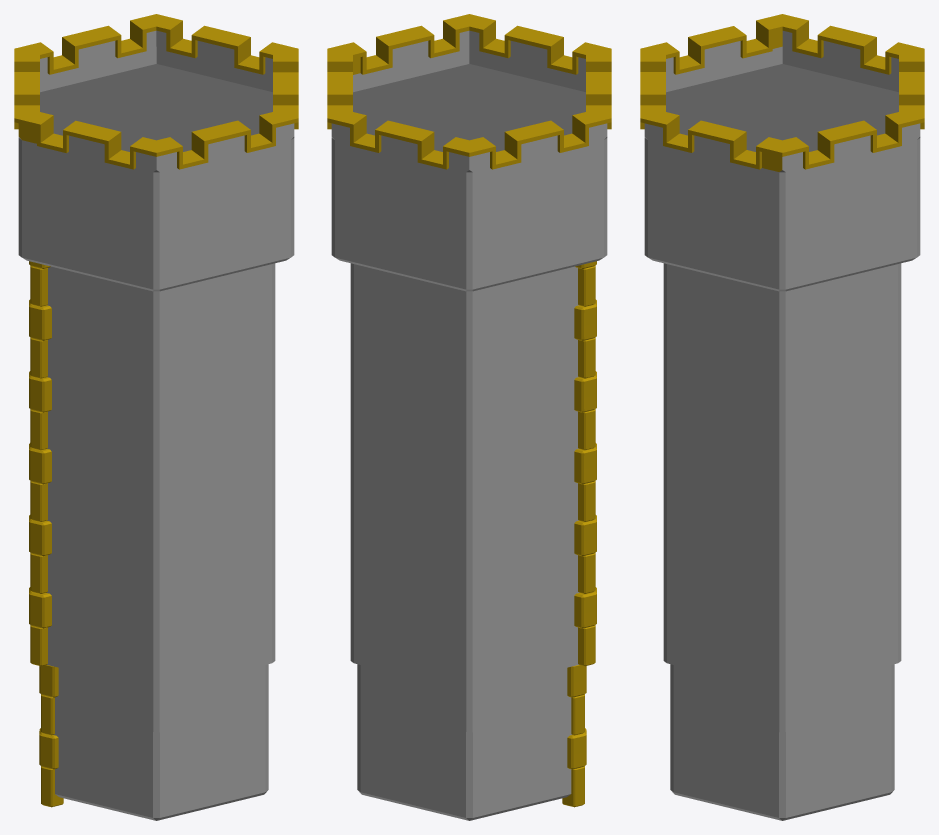
File: Castle Tower Resized.fbx
The picture shows the model from 3 angles, left to right: view 1: azimuth 30°, elevation 25°; view 2: azimuth 150°, elevation 25°; view 3: azimuth 270°, elevation 25°; orthographic projection.
Visible parts, largest first — view 1: pCylinder1, pCube33; view 2: pCylinder1, pCube33; view 3: pCylinder1.
Boxes of the visible parts, left/top/right/bottom form: pCylinder1: left=14, top=14, right=298, bottom=820; pCube33: left=29, top=261, right=63, bottom=807; pCylinder1: left=327, top=14, right=611, bottom=820; pCube33: left=562, top=261, right=596, bottom=807; pCylinder1: left=640, top=14, right=924, bottom=820.
Bounding box in the file's own units: 244 × 569 × 212.
